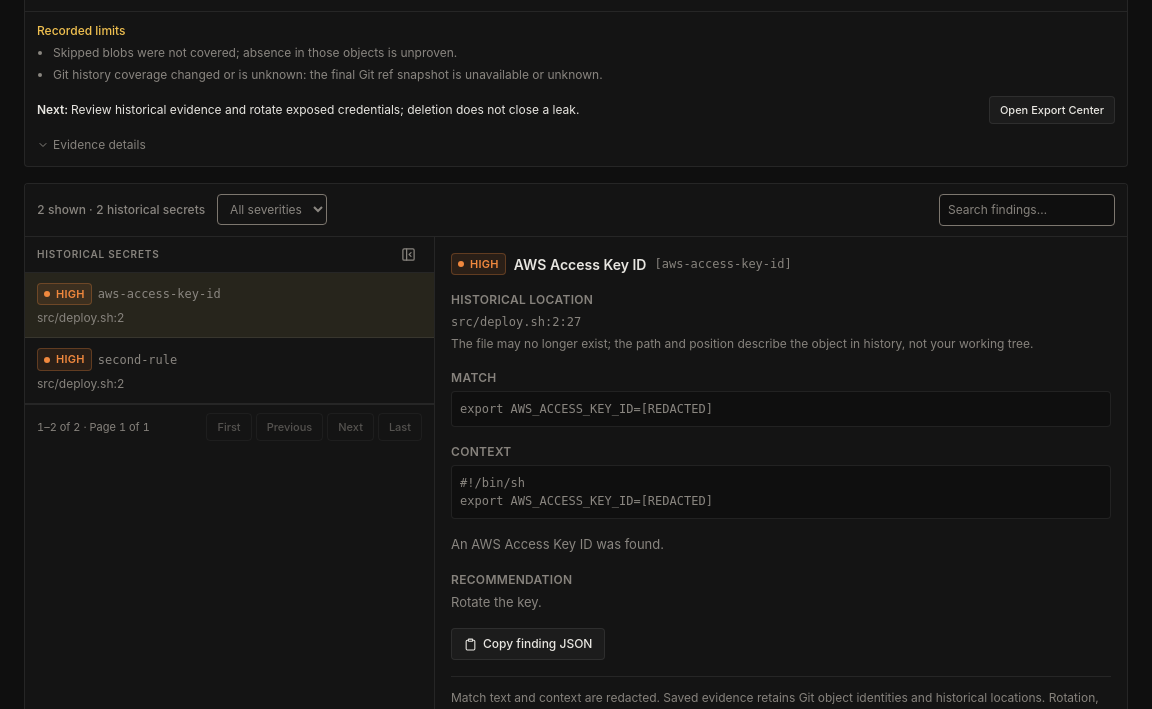
Test: same saved history receipt retains the selected detail when a newer failed attempt arrives
This screenshot has width=1152, height=709.
(page scrolled)
Click the text "second-rule" at [138, 360], box [98, 351, 177, 369]
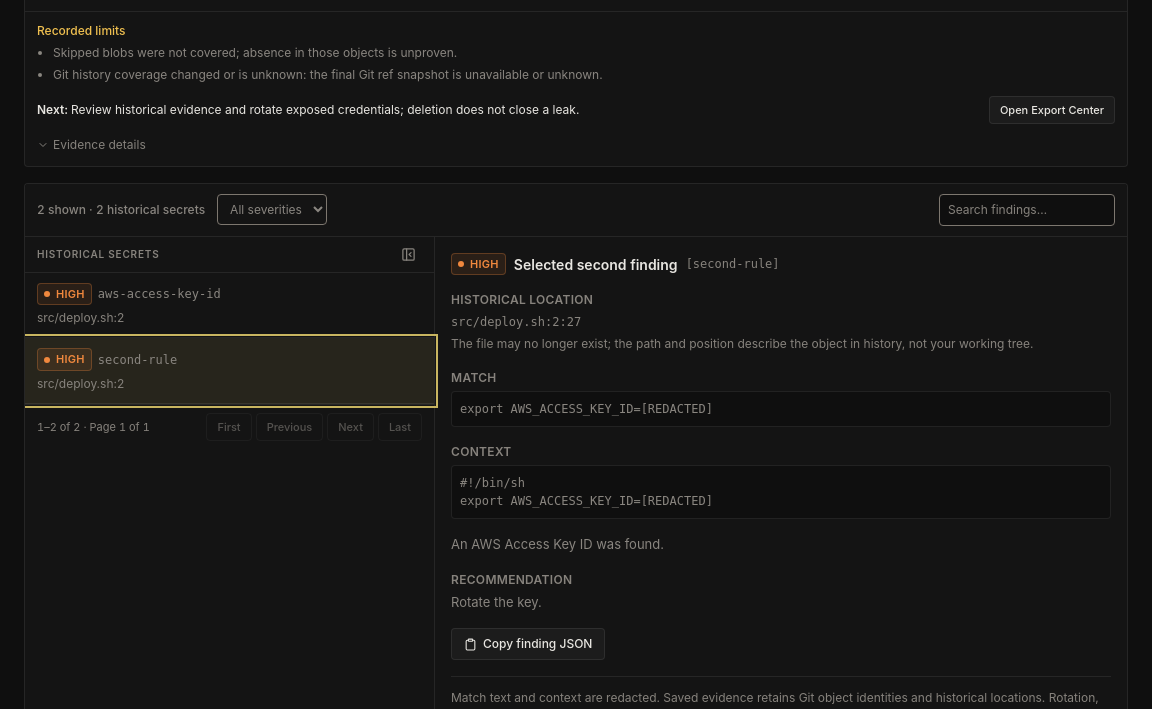
Expected: the text "Selected second finding" is shown, [514, 254, 678, 275]
